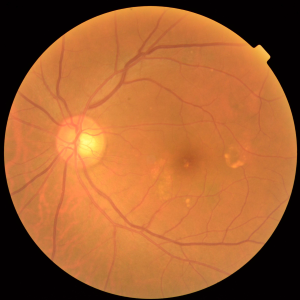retina_disease: (31, 87, 224, 207)
